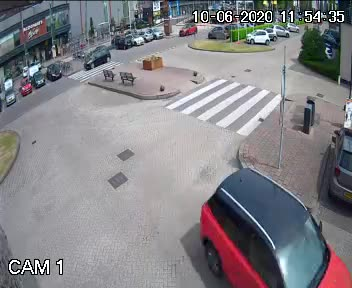car: (183, 162, 352, 288), (79, 46, 112, 70), (176, 19, 200, 40)
